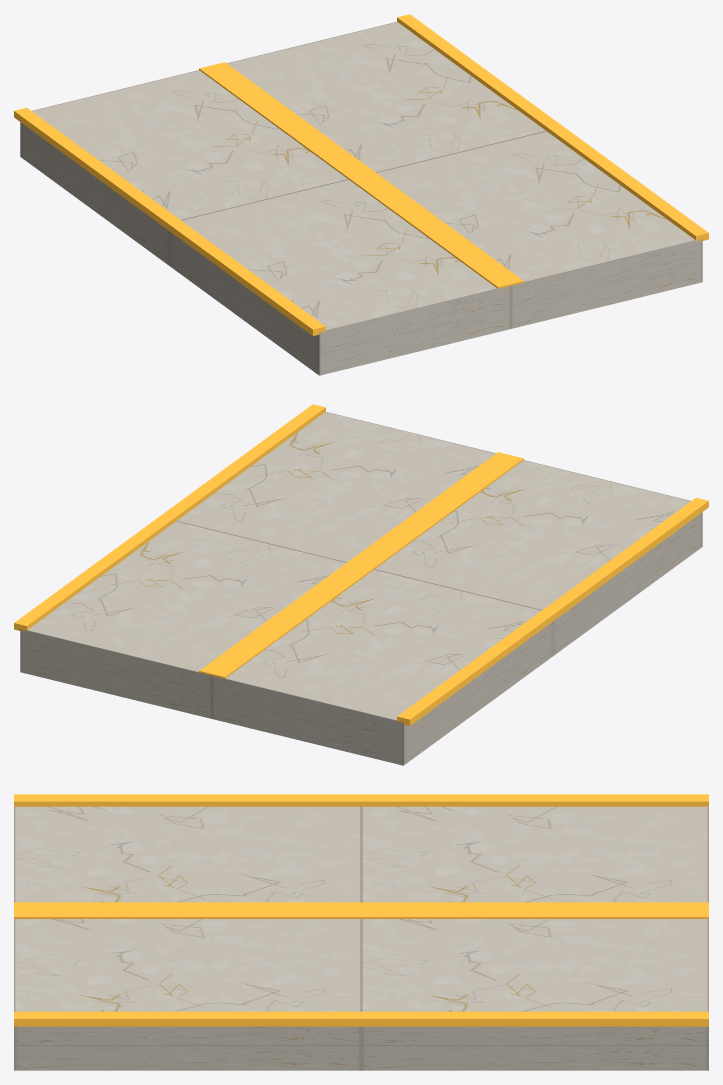
Rendered from gate-floor-10m.glb.
3 views of the same model, one above another, from view 1: azimuth 30°, elevation 25°; view 2: azimuth 150°, elevation 25°; view 3: azimuth 270°, elevation 25° (orthographic). The views are drawn at different scales.
Visible parts, largest first — view 1: gate floor (10 m); view 2: gate floor (10 m); view 3: gate floor (10 m).
Part boxes in pixels (box(x1,y1,x2,y2)): gate floor (10 m): box(14, 14, 708, 375); gate floor (10 m): box(14, 404, 708, 765); gate floor (10 m): box(14, 794, 708, 1070).
Size of the model in its own units: 7.65 by 0.88 by 10.
Materials: 2 (1 with a texture image).
